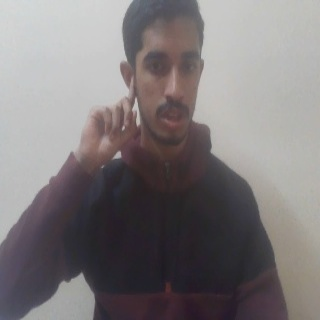Deaf: (73, 76, 135, 166)
Face: (119, 1, 206, 147)
